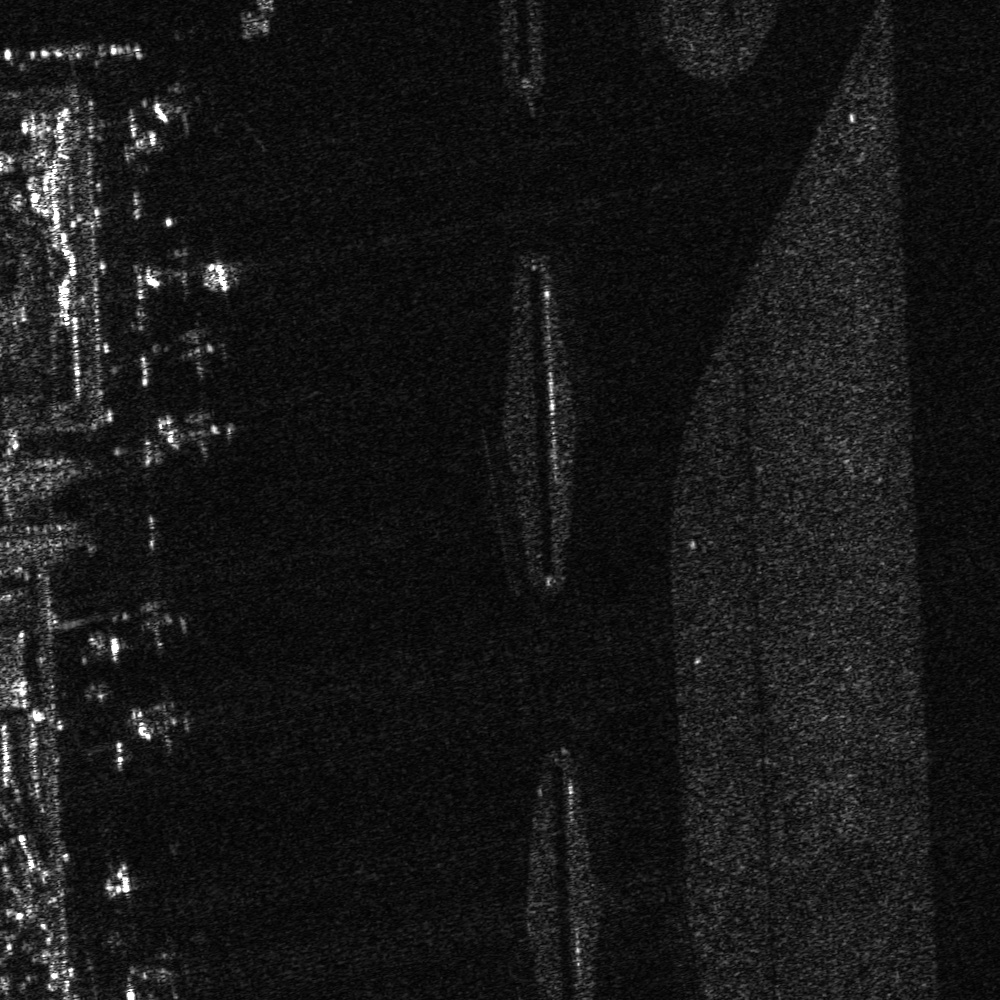A220: (141, 228, 247, 298), (147, 400, 247, 467), (146, 323, 245, 387), (102, 594, 198, 659), (122, 682, 200, 759)
